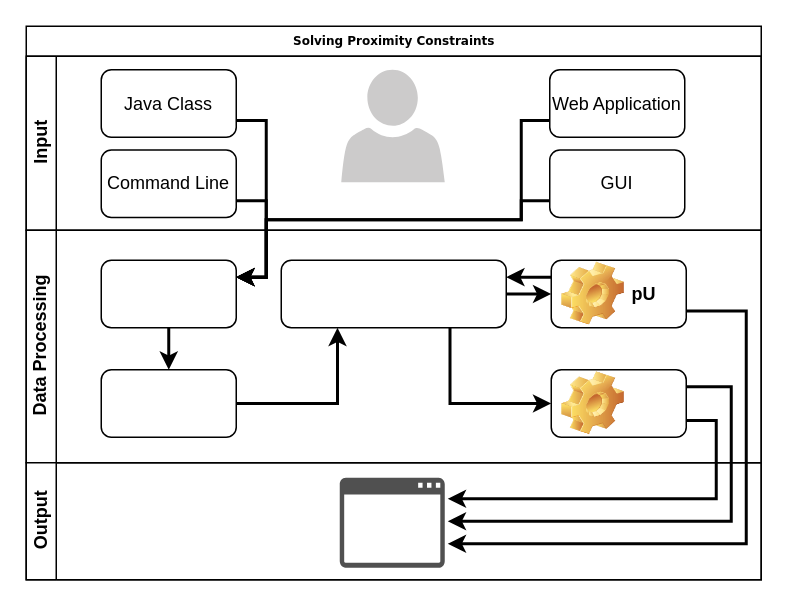
Some shapes in this 788 by 606 pixel diagram are drawn without their labels. Each missing label, with the centre of its shape:
CS: [618,402]
InputChecker: [168,293]
InputParser: [168,402]
UnificationProblem: [393,293]
USER: [392,125]
